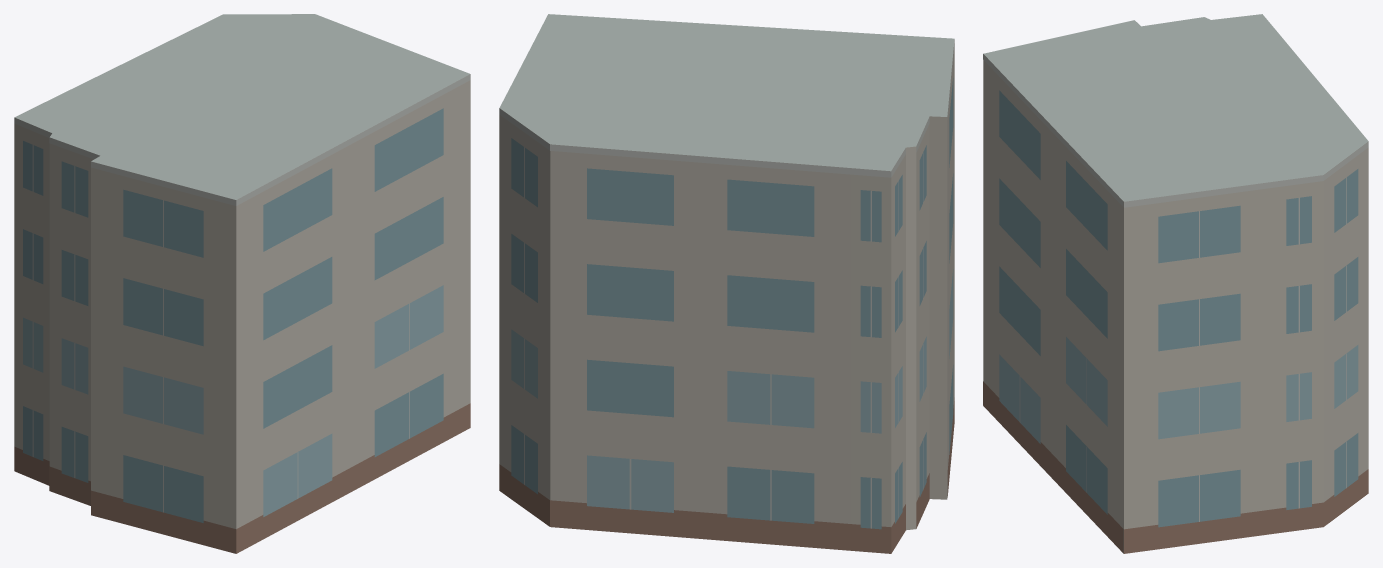
Rendered from survey-upis-32571428.glb.
3 renders of one model, left to right at view 1: azimuth 30°, elevation 25°; view 2: azimuth 150°, elevation 25°; view 3: azimuth 270°, elevation 25°, orthographic. The views are drawn at different scales.
Visible parts, largest first — view 1: survey-upis-32571428.tmp; view 2: survey-upis-32571428.tmp; view 3: survey-upis-32571428.tmp.
Part boxes in pixels (x1,y1,x2,y2): survey-upis-32571428.tmp: [14, 14, 470, 553]; survey-upis-32571428.tmp: [499, 14, 954, 553]; survey-upis-32571428.tmp: [983, 14, 1368, 553].
Bounding box in the file's own units: 16.43 × 14.35 × 14.25.
